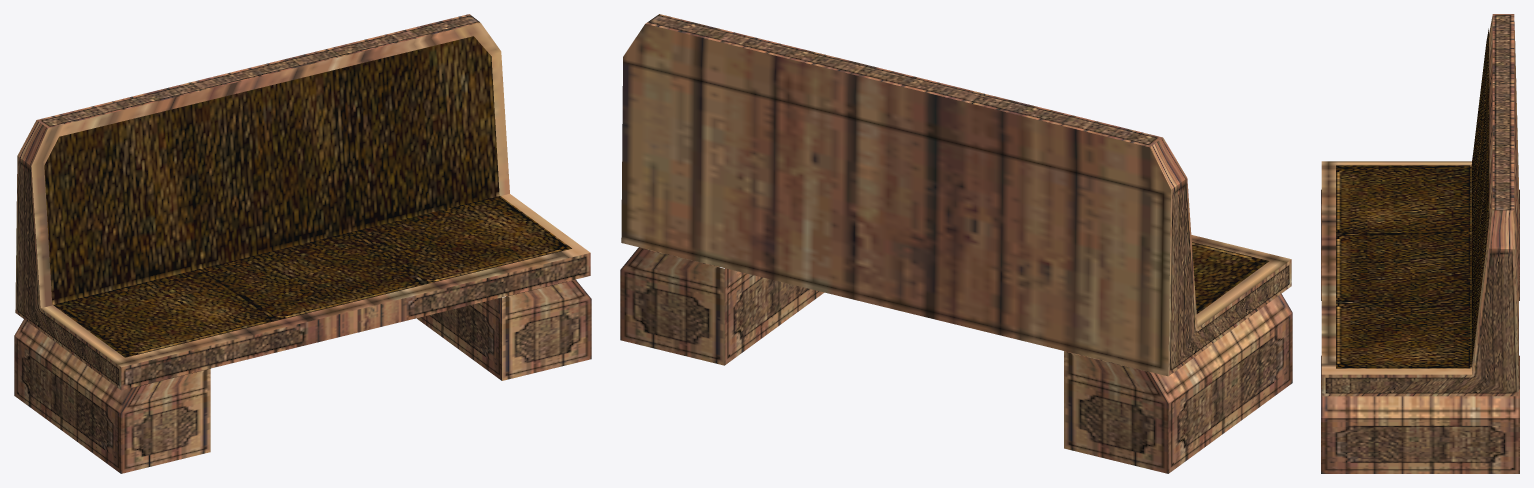
The model's file is frn_all_eleg_couch_s02_l1.fbx.
3 views of the same model, side by side, from view 1: azimuth 30°, elevation 25°; view 2: azimuth 150°, elevation 25°; view 3: azimuth 270°, elevation 25° (orthographic). The views are drawn at different scales.
Parts seen in each view (by area): view 1: mesh_node; view 2: mesh_node; view 3: mesh_node.
Boxes of the visible parts, x1=… form: mesh_node: x1=14, y1=14, x2=591, y2=473; mesh_node: x1=620, y1=14, x2=1292, y2=473; mesh_node: x1=1321, y1=14, x2=1519, y2=473.
Size of the model in its own units: 1.8 by 0.9998 by 0.7062.
1 material, 1 textured.
